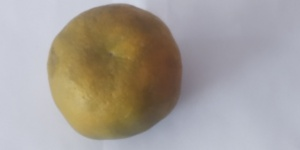BAD: (44, 2, 183, 139)
